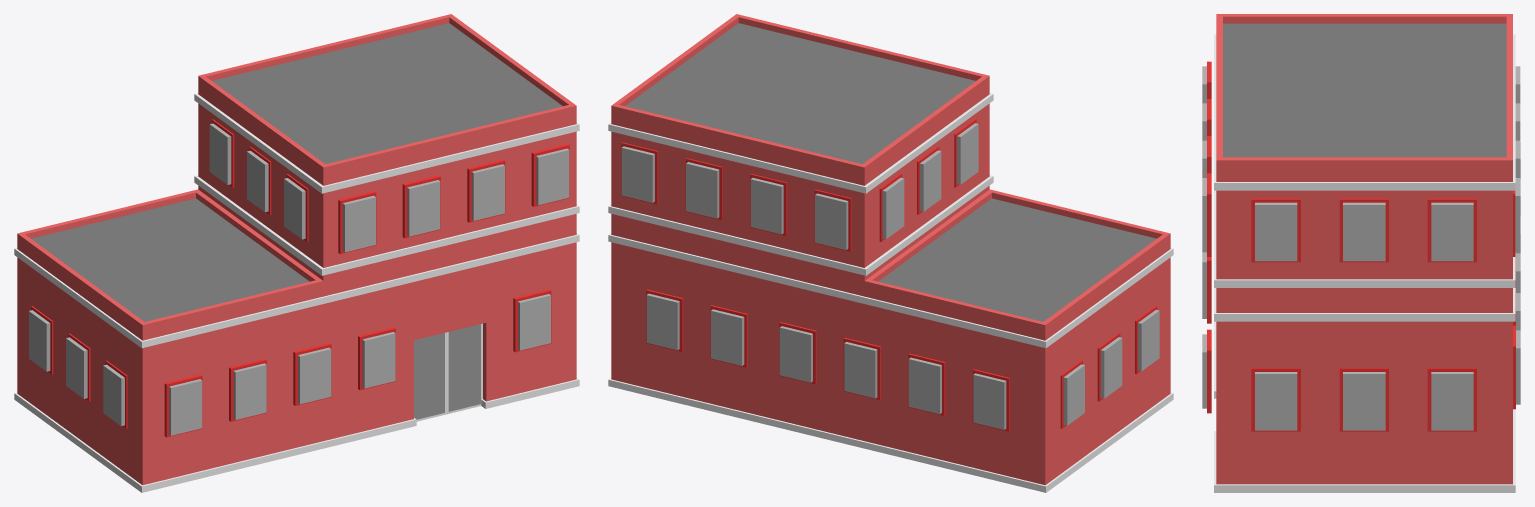
Rendered from SM_House_18_04.FBX.
The picture shows the model from 3 angles, left to right: view 1: azimuth 30°, elevation 25°; view 2: azimuth 150°, elevation 25°; view 3: azimuth 270°, elevation 25°; orthographic projection. The views are drawn at different scales.
Parts seen in each view (by area): view 1: SM_House_18_04; view 2: SM_House_18_04; view 3: SM_House_18_04.
Boxes of the visible parts, bbox=[...] form: SM_House_18_04: bbox=[14, 14, 579, 492]; SM_House_18_04: bbox=[608, 14, 1173, 492]; SM_House_18_04: bbox=[1202, 14, 1520, 492].
Size of the model in its own units: 12.29 by 7.4 by 6.44.
Materials: 1 (1 with a texture image).
